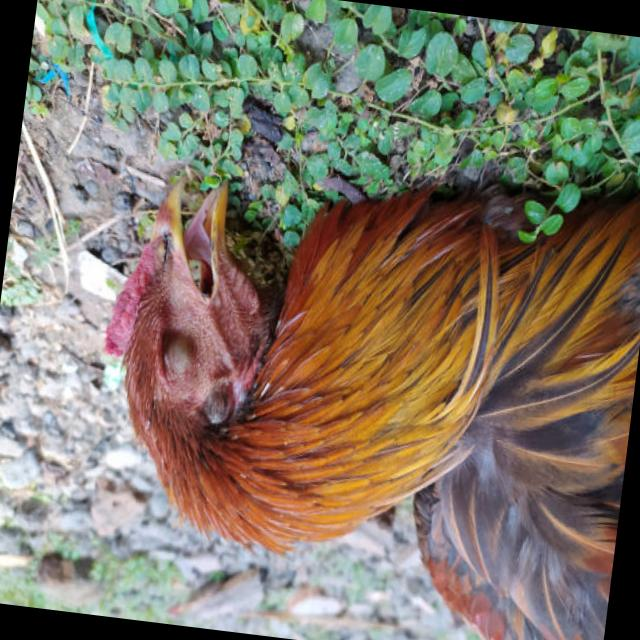dead: (56, 117, 640, 640)
